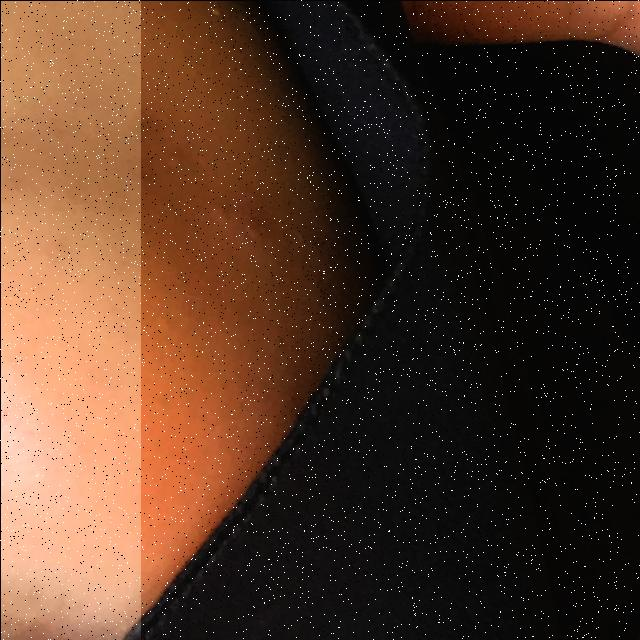mendengar: (140, 0, 640, 640)
